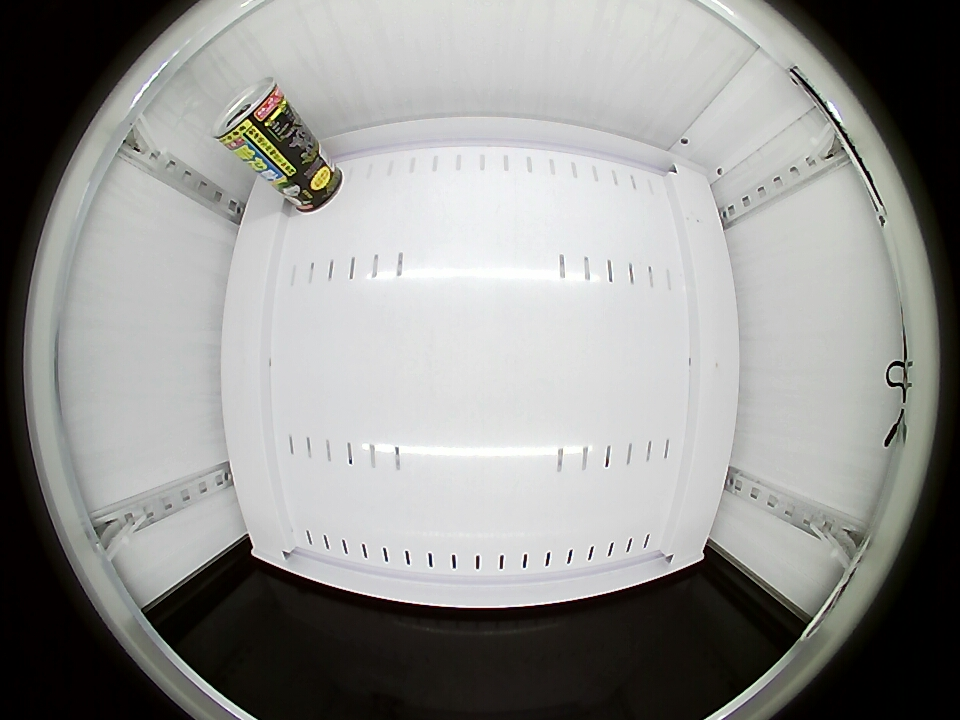yezhi: (213, 79, 290, 154)
